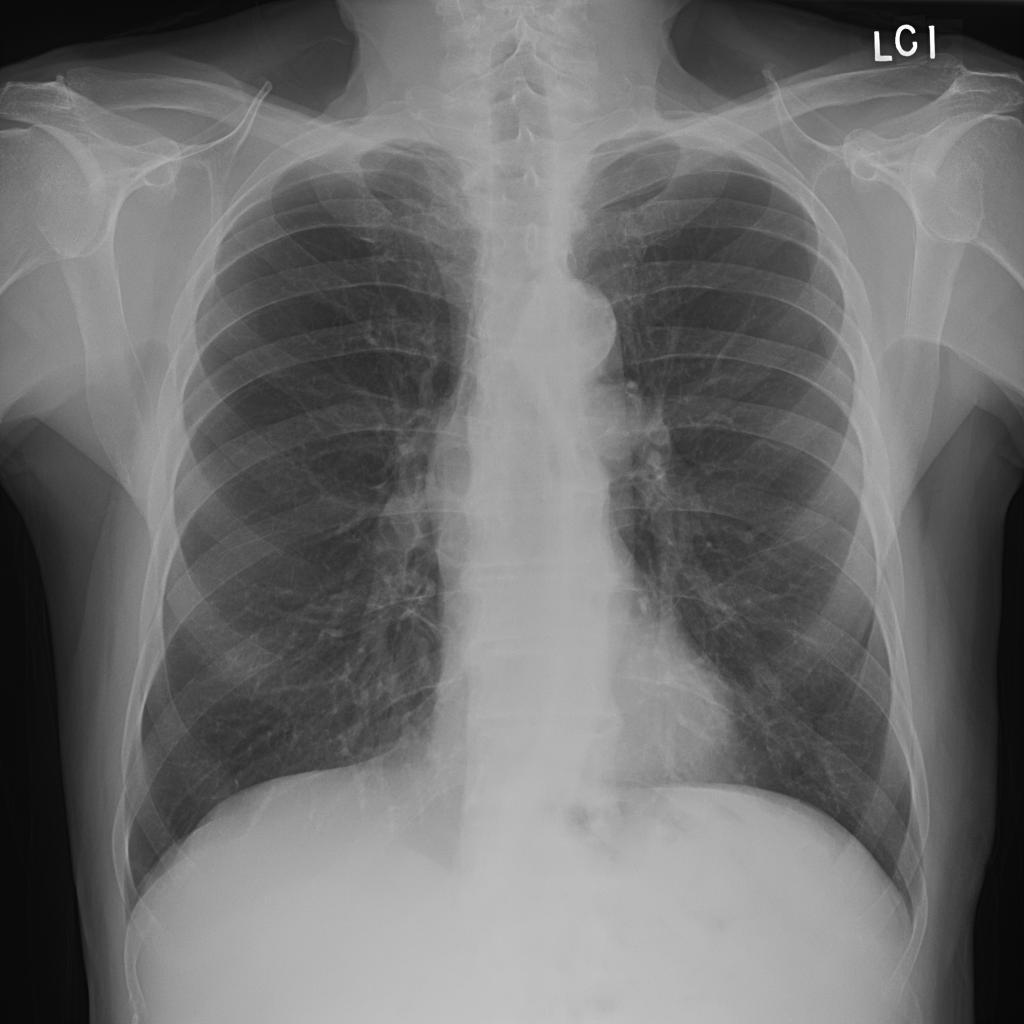Nodule: (297, 109, 333, 146)
